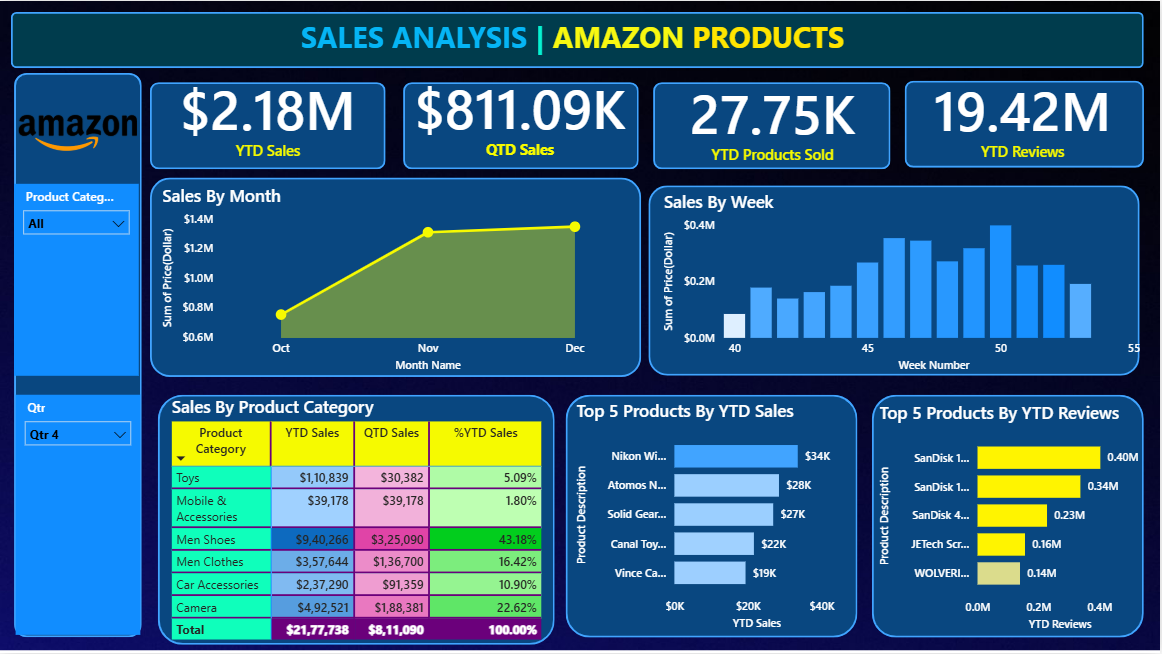

The dashboard page shown, as its layout file describes it:
{"tool":"powerbi","page":{"name":"Page 1","canvas":[1280,720],"ordinal":0},"visuals":[{"type":"shape","box":[12,12,1250,62],"z":0},{"type":"textbox","box":[15,12.5,1232.5,77.5],"z":1000},{"type":"shape","box":[15.3,79.8,140.9,622.9],"z":2000},{"type":"shape","box":[166,90,260,96],"z":3000},{"type":"card","fields":{"Values":["Amazon_Data.YTD Sales"]},"box":[166,68,260,118],"z":4000},{"type":"shape","box":[720,90,262,96],"z":5000},{"type":"shape","box":[444,90,260,96],"z":6000},{"type":"card","fields":{"Values":["Amazon_Data.QTD Sales"]},"box":[452,72,244,106],"z":7000},{"type":"shape","box":[998,88,264,96],"z":8000},{"type":"card","fields":{"Values":["Amazon_Data.YTD Products Sold"]},"box":[722,76,260,110],"z":9000},{"type":"card","fields":{"Values":["Amazon_Data.YTD Reviews"]},"box":[998,72,260,110],"z":10000},{"type":"shape","box":[166,194,542,220],"z":11000},{"type":"areaChart","title":"Sales By Month","fields":{"Category":["Date Table.Month Name"],"Y":["Sum(Amazon_Data.Price(Dollar))"]},"box":[174,202,530,212],"z":12000},{"type":"shape","box":[716,204,542,210],"z":13000},{"type":"columnChart","title":"Sales By Week","fields":{"Category":["Date Table.Week Number"],"Y":["Sum(Amazon_Data.Price(Dollar))"]},"box":[728,208,540,206],"z":14000},{"type":"shape","box":[174,434,438,276],"z":15000},{"type":"pivotTable","title":"Sales By Product Category ","fields":{"Rows":["Amazon_Data.Product Category"],"Values":["Amazon_Data.YTD Sales","Amazon_Data.QTD Sales","Amazon_Data.YTD Sales1"]},"box":[184,434,420,286],"z":16000},{"type":"shape","box":[624,434,322,268],"z":17000},{"type":"shape","box":[962,434,300,268],"z":18000},{"type":"clusteredBarChart","title":"Top 5 Products By YTD Sales","fields":{"Category":["Amazon_Data.Product Description"],"Y":["Amazon_Data.YTD Sales"]},"box":[631.2,439.1,314.1,259.4],"z":19000},{"type":"clusteredBarChart","title":"Top 5 Products By YTD Reviews","fields":{"Y":["Amazon_Data.YTD Reviews"],"Category":["Amazon_Data.Product Description"]},"box":[965.3,441.8,314.3,258.2],"z":20000},{"type":"slicer","fields":{"Values":["Amazon_Data.Product Category"]},"box":[15.3,202,137.5,212.1],"z":20501},{"type":"slicer","fields":{"Values":["Date Table.Qtr"]},"box":[17,434.5,137.5,264.8],"z":20502},{"type":"image","box":[15.3,83.2,140.9,125.6],"z":20503}]}

Visuals, with their boxes in screenshot pixels (x1, y1, x2, y2), scaled from the page's 1280x720 canvas onto the 1162x654 screenshot:
shape: detection(11, 11, 1146, 67)
textbox: detection(14, 11, 1132, 82)
shape: detection(14, 72, 142, 638)
shape: detection(151, 82, 387, 169)
card - Amazon_Data.YTD Sales: detection(151, 62, 387, 169)
shape: detection(654, 82, 891, 169)
shape: detection(403, 82, 639, 169)
card - Amazon_Data.QTD Sales: detection(410, 65, 632, 162)
shape: detection(906, 80, 1146, 167)
card - Amazon_Data.YTD Products Sold: detection(655, 69, 891, 169)
card - Amazon_Data.YTD Reviews: detection(906, 65, 1142, 165)
shape: detection(151, 176, 643, 376)
"Sales By Month" areaChart: detection(158, 183, 639, 376)
shape: detection(650, 185, 1142, 376)
"Sales By Week" columnChart: detection(661, 189, 1151, 376)
shape: detection(158, 394, 556, 645)
"Sales By Product Category " pivotTable: detection(167, 394, 548, 653)
shape: detection(566, 394, 859, 638)
shape: detection(873, 394, 1146, 638)
"Top 5 Products By YTD Sales" clusteredBarChart: detection(573, 399, 858, 634)
"Top 5 Products By YTD Reviews" clusteredBarChart: detection(876, 401, 1161, 636)
slicer - Amazon_Data.Product Category: detection(14, 183, 139, 376)
slicer - Date Table.Qtr: detection(15, 395, 140, 635)
image: detection(14, 76, 142, 190)
